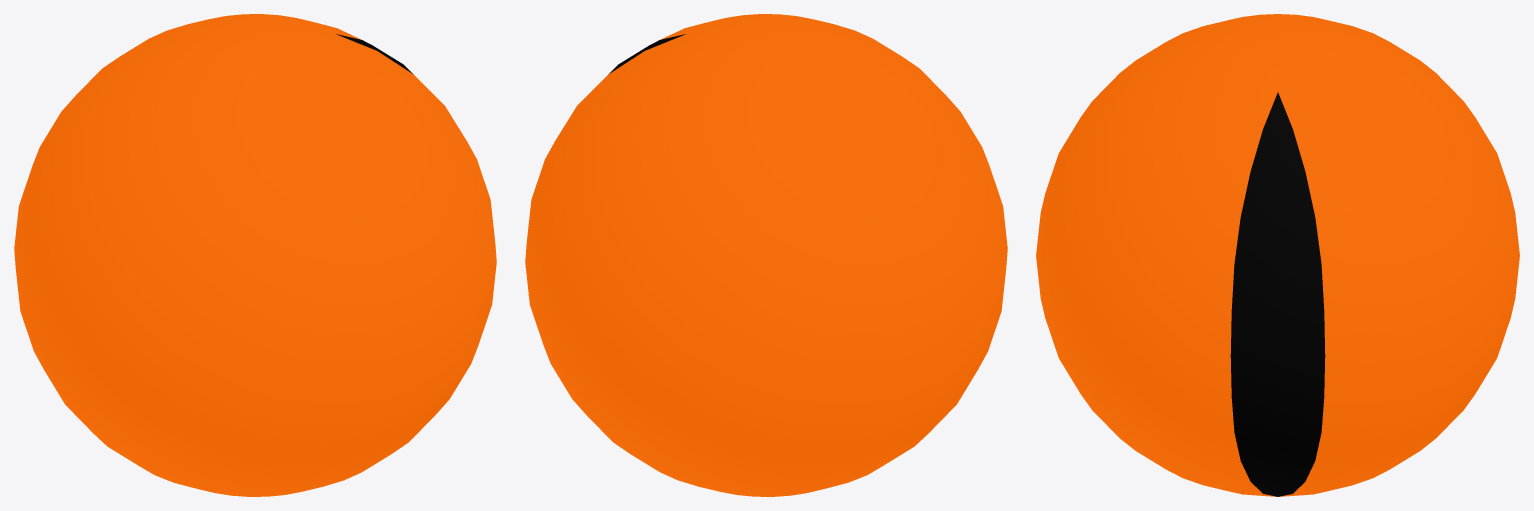
File: Eyes.fbx
The picture shows the model from 3 angles, left to right: view 1: azimuth 30°, elevation 25°; view 2: azimuth 150°, elevation 25°; view 3: azimuth 270°, elevation 25°; orthographic projection.
Visible parts, largest first — view 1: Eye; view 2: Eye; view 3: Eye.
Boxes of the visible parts, bbox=[...] form: Eye: bbox=[14, 14, 496, 496]; Eye: bbox=[525, 14, 1007, 496]; Eye: bbox=[1036, 14, 1519, 496].
Size of the model in its own units: 200 by 200 by 200.
